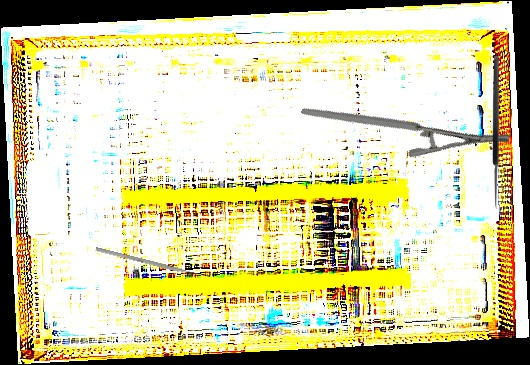Hook Surgical: (492, 56, 507, 209)
Needle Holder: (300, 45, 512, 203)
Pusher: (95, 247, 208, 279)
